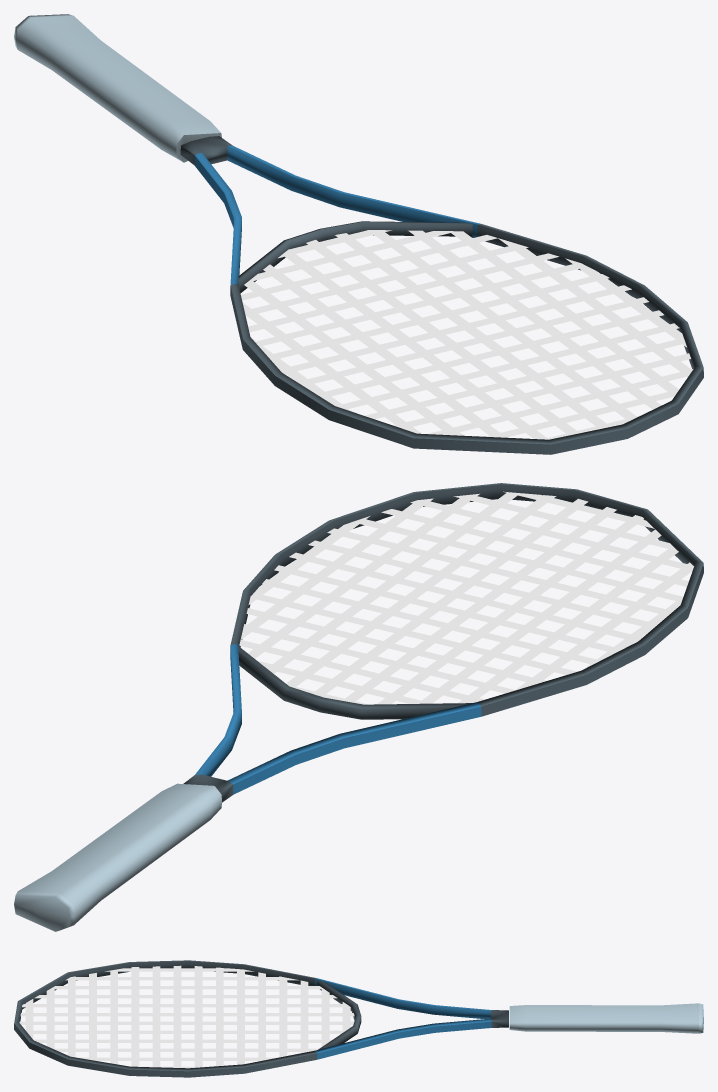
The model's file is human-sports-tennis-racket_v1.glb.
3 views of the same model, one above another, from view 1: azimuth 30°, elevation 25°; view 2: azimuth 150°, elevation 25°; view 3: azimuth 270°, elevation 25° (orthographic). The views are drawn at different scales.
Parts seen in each view (by area): view 1: Tennis Racket; view 2: Tennis Racket; view 3: Tennis Racket.
Boxes of the visible parts, x1,y1,x2,y2 form: Tennis Racket: (14,14,703,454); Tennis Racket: (14,483,703,931); Tennis Racket: (14,960,703,1077).
Bounding box in the file's own units: 0.2591 × 0.0249 × 0.68.
